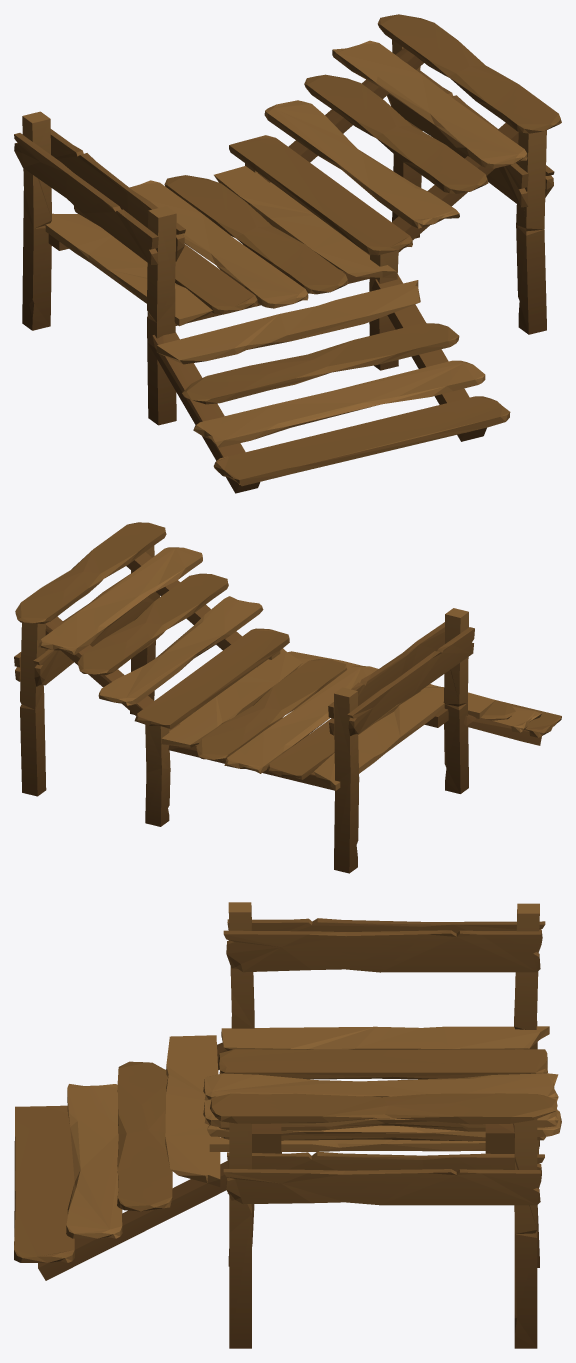
The model's file is Stairs_01.fbx.
The picture shows the model from 3 angles, top to bottom: view 1: azimuth 30°, elevation 25°; view 2: azimuth 150°, elevation 25°; view 3: azimuth 270°, elevation 25°; orthographic projection. The views are drawn at different scales.
Parts seen in each view (by area): view 1: Stairs_01; view 2: Stairs_01; view 3: Stairs_01.
Boxes of the visible parts, <box> form: Stairs_01: <box>14,14,561,493</box>; Stairs_01: <box>14,522,561,873</box>; Stairs_01: <box>14,902,561,1348</box>.
Bounding box in the file's own units: 272 × 139 × 275.
